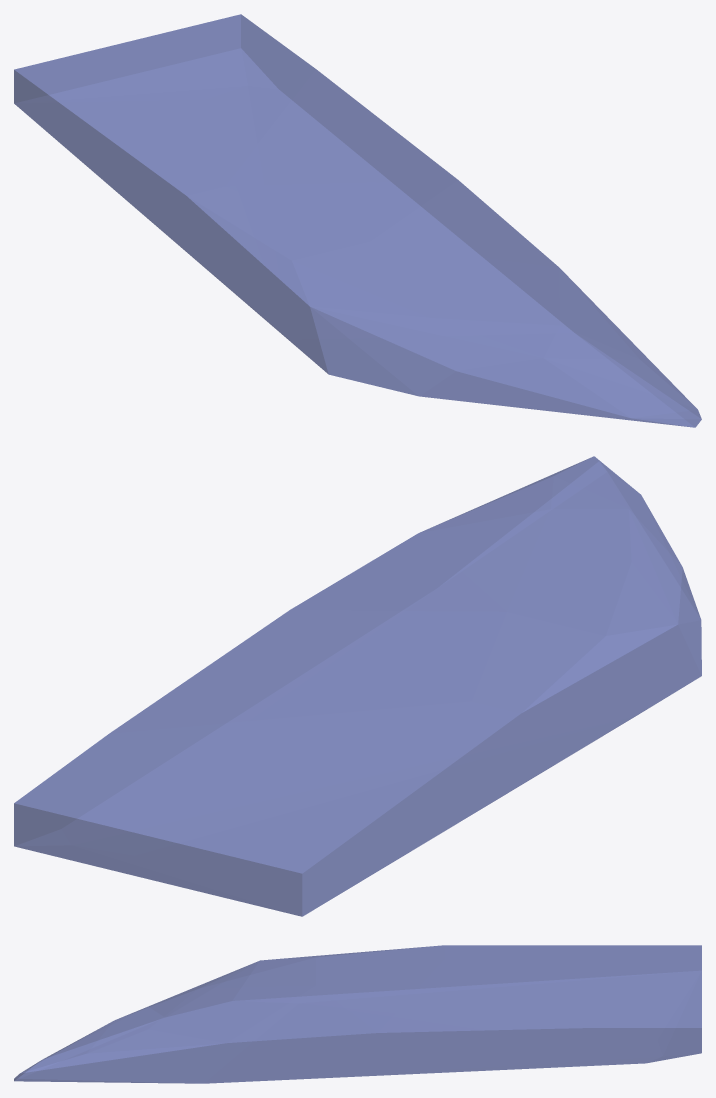
The picture shows the model from 3 angles, top to bottom: view 1: azimuth 30°, elevation 25°; view 2: azimuth 150°, elevation 25°; view 3: azimuth 270°, elevation 25°; orthographic projection. The views are drawn at different scales.
Parts seen in each view (by area): view 1: Shape_IndexedFaceSet.025_Shape_IndexedFaceSet.5464; view 2: Shape_IndexedFaceSet.025_Shape_IndexedFaceSet.5464; view 3: Shape_IndexedFaceSet.025_Shape_IndexedFaceSet.5464.
Boxes of the visible parts, left/top/right/bottom form: Shape_IndexedFaceSet.025_Shape_IndexedFaceSet.5464: left=14, top=14, right=701, bottom=427; Shape_IndexedFaceSet.025_Shape_IndexedFaceSet.5464: left=14, top=456, right=701, bottom=916; Shape_IndexedFaceSet.025_Shape_IndexedFaceSet.5464: left=14, top=945, right=701, bottom=1083.
Bounding box in the file's own units: 0.0158 × 0.00495 × 0.0554.
